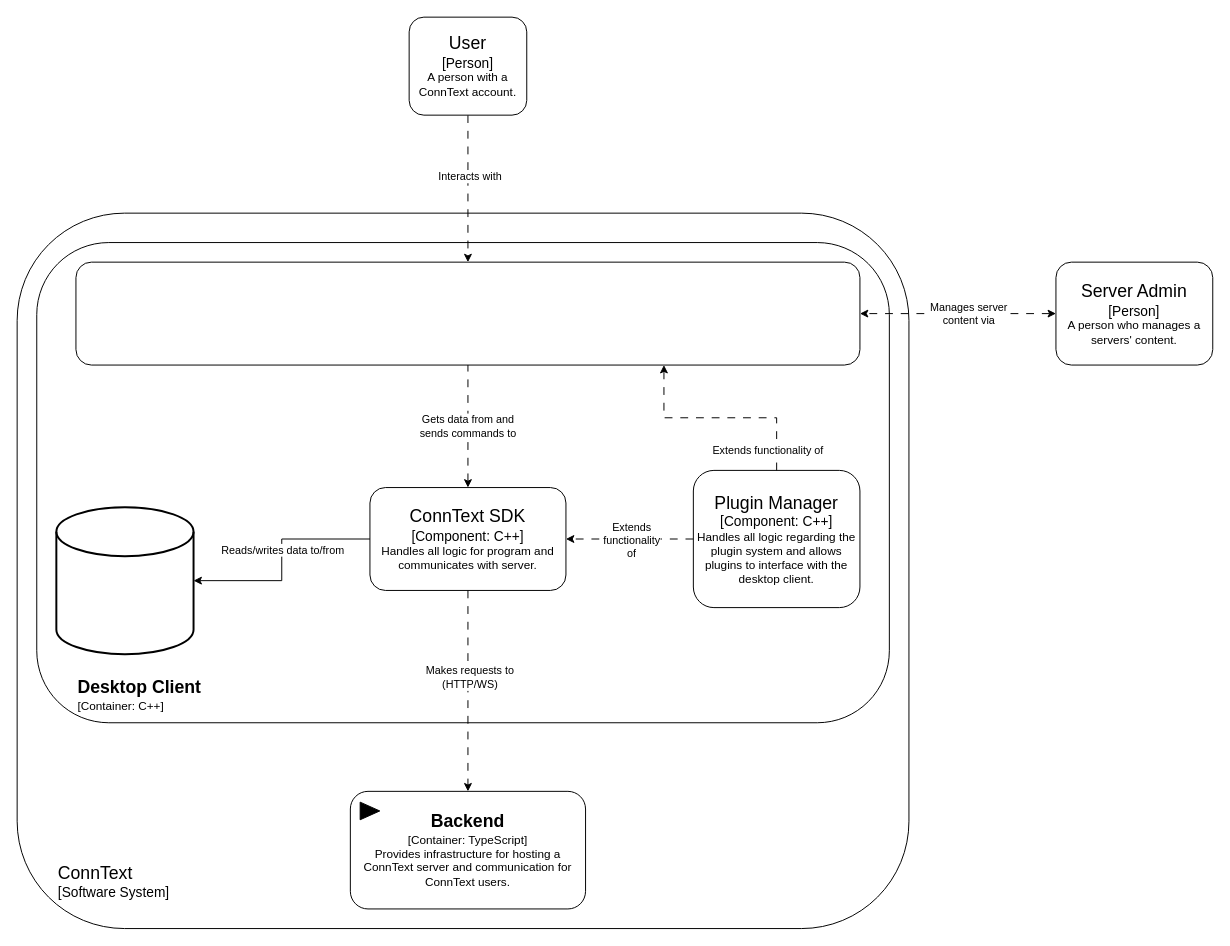
Image size: 1230x946. Some labels were removed from this diagram. Here are the shapes that lost their labels. From the top down, the centre of each, then its label:
At point 467,313: "UI Layer [Component: C++] Shows user content.".
At point 124,580: "Local storage/ Filesystem [Component: Filesystem]".
